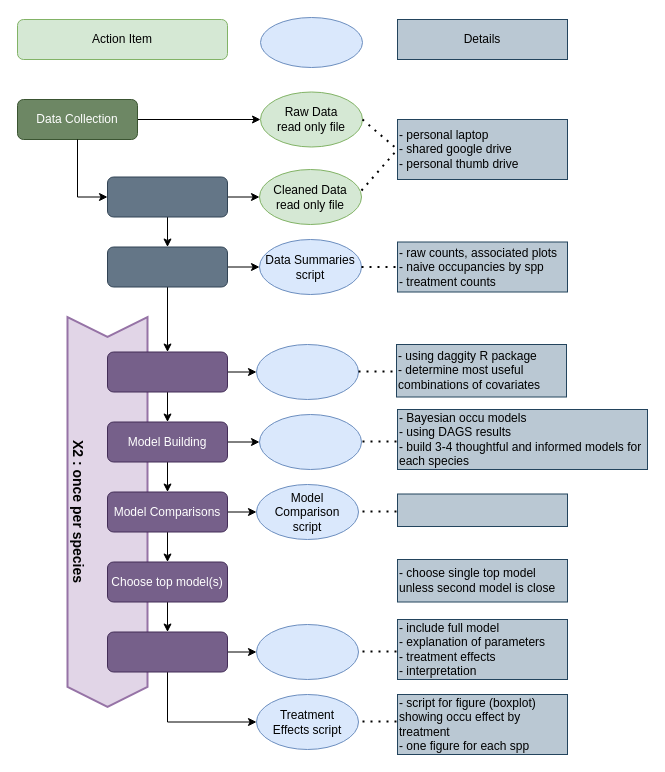
The diagram is 665 pixels wide and 772 high, and some of its shapes have lost their labels. Here are the shapes that lost their labels. From the top down, the centre of each, then its label:
At point 311,42: "Physical Output".
At point 167,196: "Data Cleanup".
At point 167,266: "Data Exploration".
At point 167,371: "DAGS Analysis".
At point 307,372: "DAGS Analysis script".
At point 310,442: "Model Building script".
At point 482,509: "- using LOOIC".
At point 167,651: "Estimate Treatment Effects on Occupancy".
At point 307,652: "Top Model Results script".
